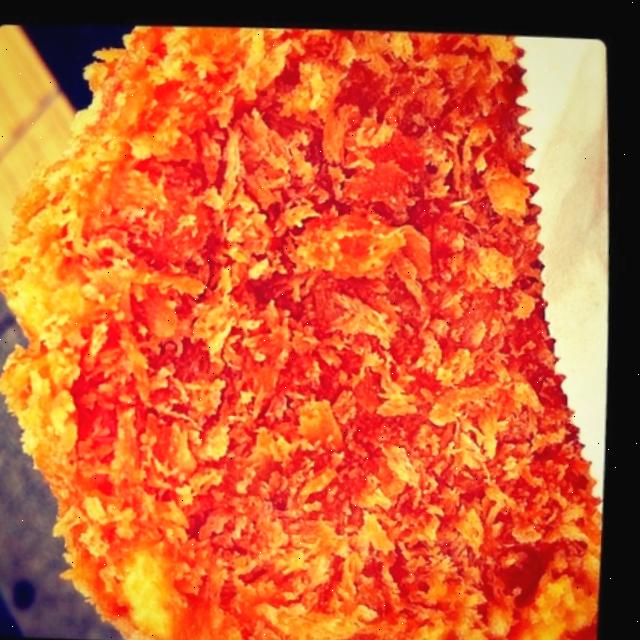炸货点心: (0, 17, 614, 640)
